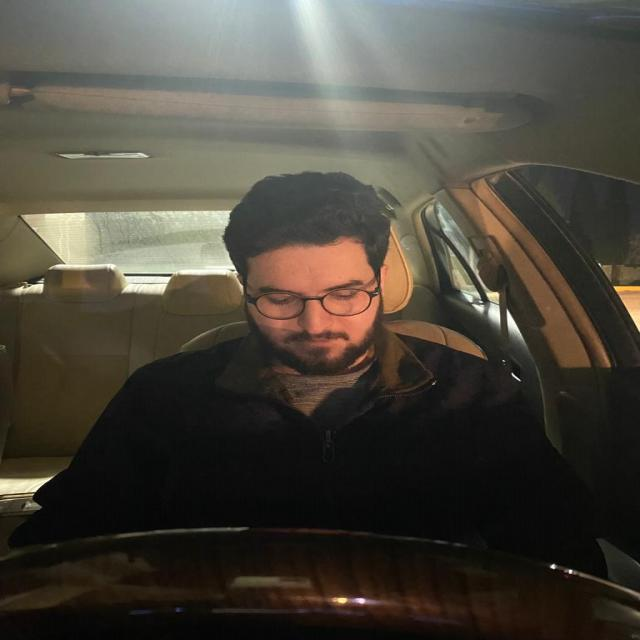person: (220, 167, 393, 386)
